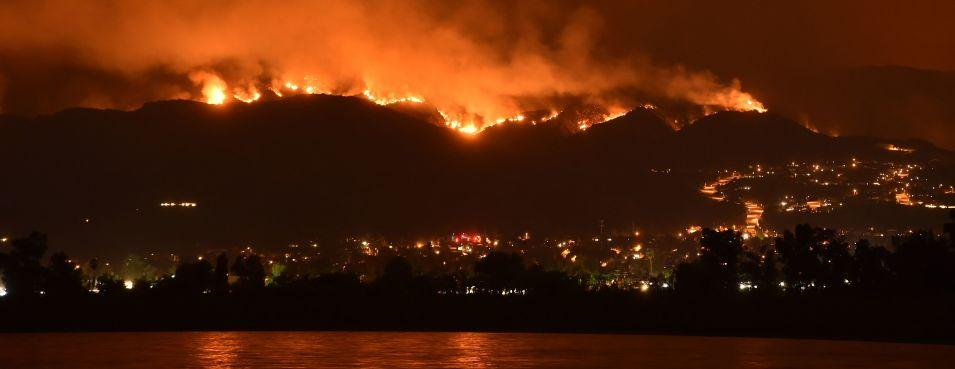Fire: (184, 77, 770, 136)
